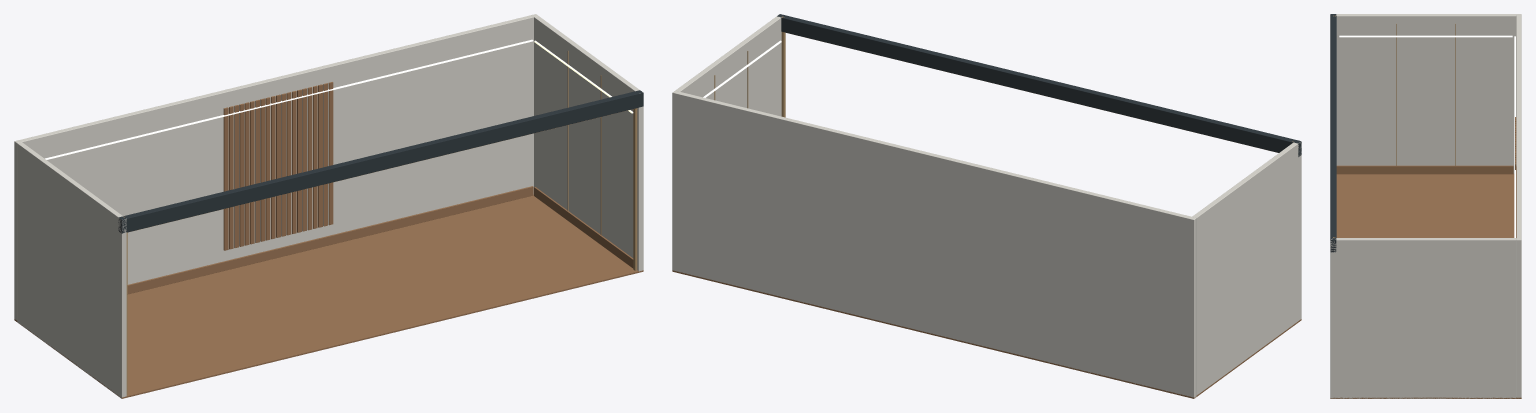
File: booth-28x10.glb
3 renders of one model, left to right at view 1: azimuth 30°, elevation 25°; view 2: azimuth 150°, elevation 25°; view 3: azimuth 270°, elevation 25°, orthographic. The views are drawn at different scales.
Parts seen in each view (by area): view 1: mesh_rear, inset_oak_floor, mesh_side_-1, mesh_side_1, mesh_branding, rear_oak_plinth, rear_light_wash, oak_side_plinth_1, bronze_entry_post_1, oak_accent_slat_3, oak_accent_slat_11, oak_accent_slat_4 (+18 smaller); view 2: mesh_rear, mesh_side_-1, mesh_branding, mesh_side_1, inset_oak_floor; view 3: mesh_side_1, mesh_side_-1, inset_oak_floor, mesh_rear, oak_side_plinth_-1, mesh_branding, warm_side_wash_-1, rear_light_wash.
Boxes of the visible parts, box(x1,y1,x2,y2) form: mesh_rear: box(14, 14, 538, 320); inset_oak_floor: box(14, 195, 643, 398); mesh_side_-1: box(17, 142, 126, 398); mesh_side_1: box(534, 16, 643, 271); mesh_branding: box(118, 90, 643, 233); rear_oak_plinth: box(127, 186, 533, 294); rear_light_wash: box(45, 39, 533, 159); oak_side_plinth_1: box(534, 187, 633, 268); bronze_entry_post_1: box(633, 108, 637, 270); oak_accent_slat_3: box(239, 103, 244, 246); oak_accent_slat_11: box(281, 93, 286, 236); oak_accent_slat_4: box(244, 102, 249, 245); mesh_rear: box(672, 90, 1196, 398); mesh_side_-1: box(1192, 141, 1301, 394); mesh_branding: box(777, 14, 1301, 156); mesh_side_1: box(675, 16, 781, 116); inset_oak_floor: box(672, 270, 1301, 398); mesh_side_1: box(1330, 238, 1516, 398); mesh_side_-1: box(1336, 14, 1516, 173); inset_oak_floor: box(1330, 174, 1521, 398); mesh_rear: box(1516, 14, 1521, 397); oak_side_plinth_-1: box(1336, 165, 1513, 174); mesh_branding: box(1330, 14, 1336, 252); warm_side_wash_-1: box(1339, 35, 1512, 37); rear_light_wash: box(1514, 36, 1515, 237).
Bounding box in the file's own units: 8.53 × 2.8 × 3.05.
